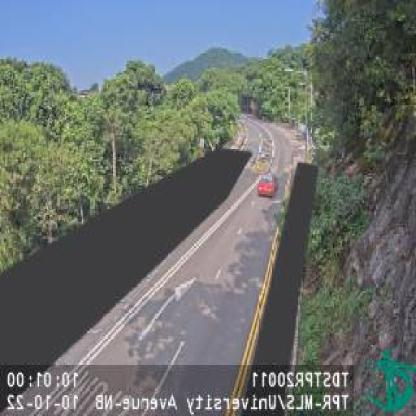Car: (257, 174, 275, 196)
